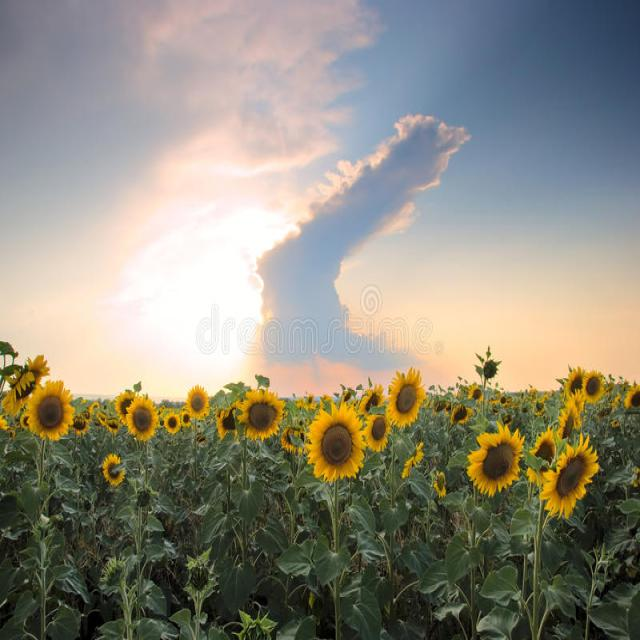sunflower: (301, 399, 370, 489), (464, 421, 522, 497), (548, 434, 600, 518), (22, 375, 76, 447), (231, 384, 285, 447), (379, 370, 430, 424), (125, 390, 162, 440), (178, 376, 208, 424), (578, 362, 603, 402), (99, 454, 126, 485)
